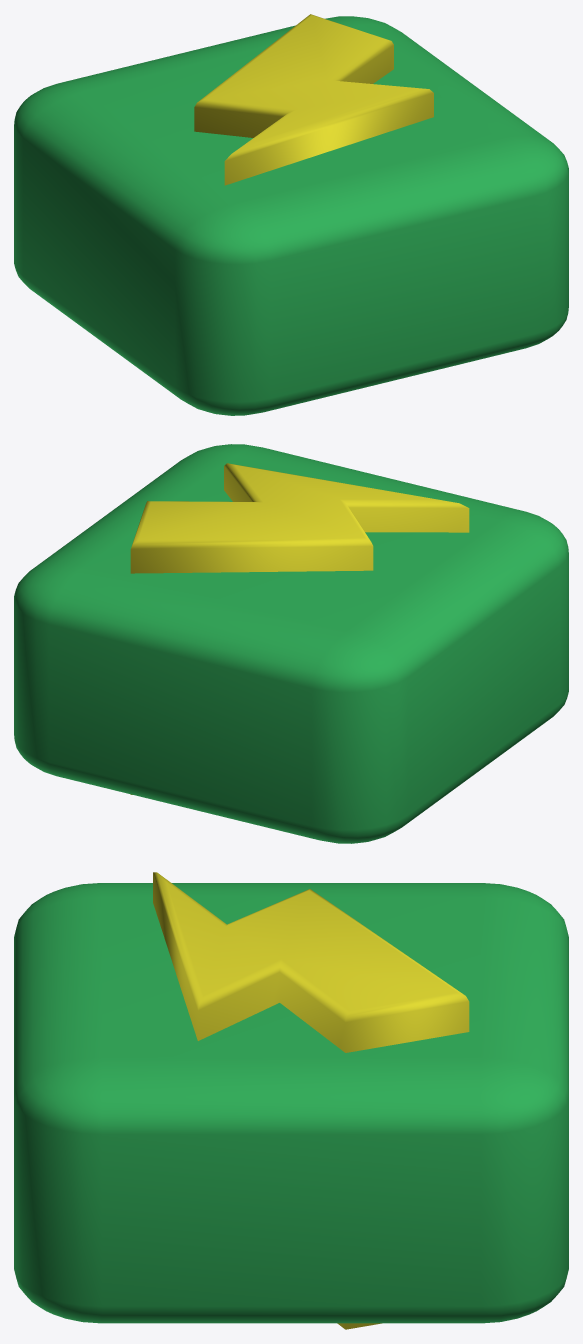
The model's file is power-cube.glb.
The picture shows the model from 3 angles, top to bottom: view 1: azimuth 30°, elevation 25°; view 2: azimuth 150°, elevation 25°; view 3: azimuth 270°, elevation 25°; orthographic projection. The views are drawn at different scales.
Parts seen in each view (by area): view 1: Object_2, Object_3; view 2: Object_2, Object_3; view 3: Object_2, Object_3.
Part boxes in pixels (x1,y1,x2,y2): Object_2: [14, 16, 568, 415]; Object_3: [194, 14, 433, 185]; Object_2: [14, 444, 568, 843]; Object_3: [130, 463, 469, 794]; Object_2: [14, 883, 568, 1323]; Object_3: [153, 872, 469, 1329].
Size of the model in its own units: 2 by 1.25 by 2.
